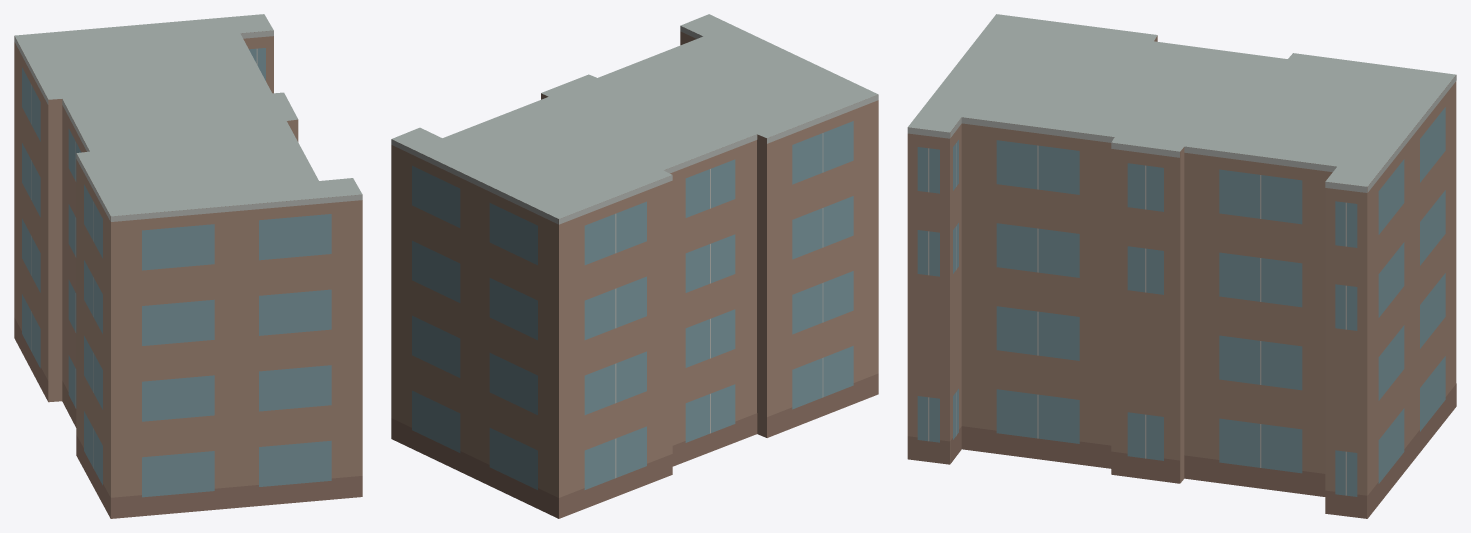
Rendered from survey-upis-32604592.glb.
3 renders of one model, left to right at view 1: azimuth 30°, elevation 25°; view 2: azimuth 150°, elevation 25°; view 3: azimuth 270°, elevation 25°, orthographic. The views are drawn at different scales.
Parts seen in each view (by area): view 1: survey-upis-32604592.tmp; view 2: survey-upis-32604592.tmp; view 3: survey-upis-32604592.tmp.
Part boxes in pixels (x1,y1,x2,y2): survey-upis-32604592.tmp: [14, 14, 362, 518]; survey-upis-32604592.tmp: [391, 14, 878, 518]; survey-upis-32604592.tmp: [907, 14, 1456, 518].
Size of the model in its own units: 14.54 by 13.02 by 19.51.
